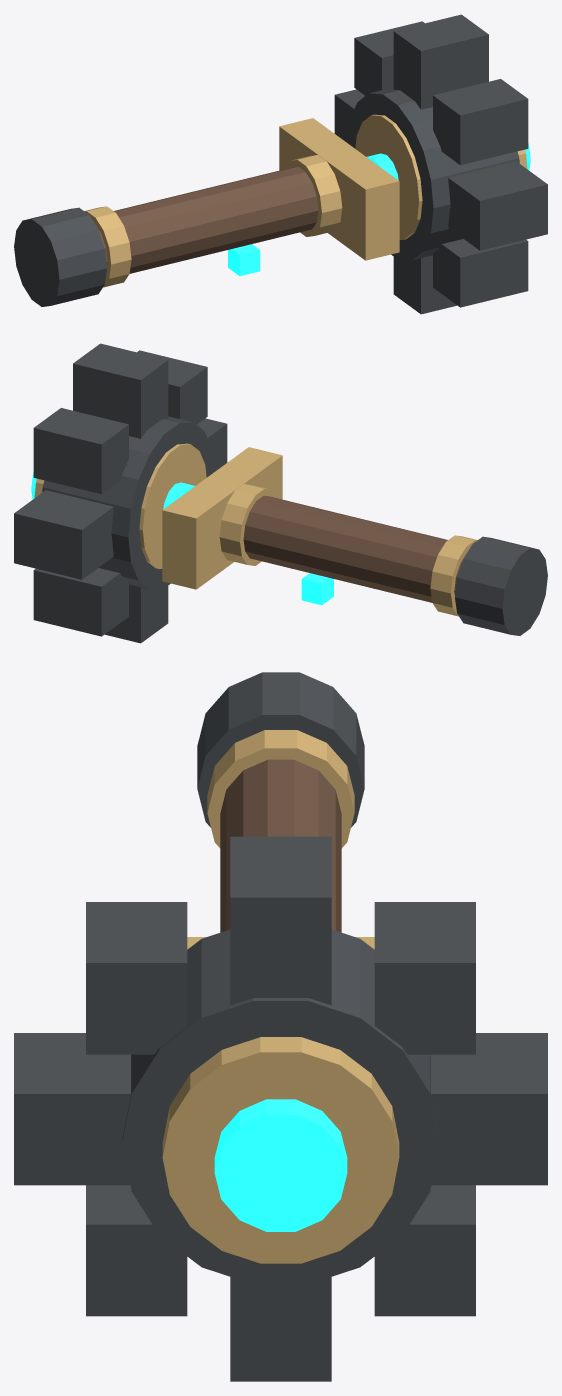
The model's file is SM_MKG_GearMace_A01.fbx.
3 views of the same model, one above another, from view 1: azimuth 30°, elevation 25°; view 2: azimuth 150°, elevation 25°; view 3: azimuth 270°, elevation 25° (orthographic). The views are drawn at different scales.
Parts seen in each view (by area): view 1: Grip_Leather_OversizedGnome, Guard_Brass_Block, Head_DarkIron_GearCore, Pommel_DarkIron_Cap, GearTooth_DarkIron_Right, GearTooth_DarkIron_Top, GearTooth_DarkIron_DiagB, GearTooth_DarkIron_DiagD, Head_Brass_OuterHub, GearTooth_DarkIron_DiagA, GearTooth_DarkIron_Bottom, Grip_Brass_FrontBand (+3 smaller); view 2: Grip_Leather_OversizedGnome, Guard_Brass_Block, Head_DarkIron_GearCore, Pommel_DarkIron_Cap, GearTooth_DarkIron_Left, GearTooth_DarkIron_Top, GearTooth_DarkIron_DiagA, GearTooth_DarkIron_DiagC, Head_Brass_OuterHub, GearTooth_DarkIron_DiagB, GearTooth_DarkIron_Bottom, Grip_Brass_FrontBand (+3 smaller); view 3: Head_DarkIron_GearCore, Head_Brass_OuterHub, GearTooth_DarkIron_Top, GearTooth_DarkIron_Left, GearTooth_DarkIron_Right, GearTooth_DarkIron_DiagA, GearTooth_DarkIron_DiagB, Head_Aetherium_CenterCap_Front, GearTooth_DarkIron_DiagC, GearTooth_DarkIron_DiagD, Pommel_DarkIron_Cap, GearTooth_DarkIron_Bottom (+2 smaller).
Part boxes in pixels (box(x1,y1,x2,y2)): Grip_Leather_OversizedGnome: box(96, 166, 318, 273); Guard_Brass_Block: box(279, 118, 399, 260); Head_DarkIron_GearCore: box(347, 87, 519, 260); Pommel_DarkIron_Cap: box(14, 207, 106, 306); GearTooth_DarkIron_Right: box(448, 161, 547, 250); GearTooth_DarkIron_Top: box(393, 14, 488, 109); GearTooth_DarkIron_DiagB: box(433, 79, 528, 165); GearTooth_DarkIron_DiagD: box(433, 239, 528, 307); Head_Brass_OuterHub: box(355, 114, 527, 239); GearTooth_DarkIron_DiagA: box(354, 21, 424, 95); GearTooth_DarkIron_Bottom: box(393, 255, 456, 314); Grip_Brass_FrontBand: box(284, 155, 342, 236); Grip_Leather_OversizedGnome: box(243, 495, 465, 602); Guard_Brass_Block: box(162, 447, 282, 589); Head_DarkIron_GearCore: box(42, 416, 214, 589); Pommel_DarkIron_Cap: box(455, 536, 547, 635); GearTooth_DarkIron_Left: box(14, 490, 113, 579); GearTooth_DarkIron_Top: box(73, 343, 168, 438); GearTooth_DarkIron_DiagA: box(33, 408, 128, 494); GearTooth_DarkIron_DiagC: box(33, 568, 128, 636); Head_Brass_OuterHub: box(34, 443, 206, 568); GearTooth_DarkIron_DiagB: box(137, 350, 207, 424); GearTooth_DarkIron_Bottom: box(105, 584, 168, 643); Grip_Brass_FrontBand: box(219, 484, 277, 565); Head_DarkIron_GearCore: box(122, 929, 439, 1284); Head_Brass_OuterHub: box(162, 1037, 399, 1263); GearTooth_DarkIron_Top: box(230, 836, 331, 1005); GearTooth_DarkIron_Left: box(431, 1033, 547, 1185); GearTooth_DarkIron_Right: box(14, 1033, 130, 1185); GearTooth_DarkIron_DiagA: box(374, 902, 475, 1054); GearTooth_DarkIron_DiagB: box(86, 902, 187, 1054); Head_Aetherium_CenterCap_Front: box(214, 1099, 347, 1231); GearTooth_DarkIron_DiagC: box(374, 1185, 475, 1316); GearTooth_DarkIron_DiagD: box(86, 1185, 187, 1316); Pommel_DarkIron_Cap: box(197, 672, 364, 827); GearTooth_DarkIron_Bottom: box(230, 1277, 331, 1381).
Size of what is drawn, in the model's own units: 3700 by 7000 by 3700.
